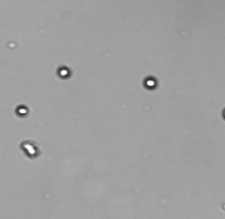Living Cell: (20, 140, 40, 158), (56, 66, 71, 78), (144, 76, 157, 89), (15, 104, 29, 116)
